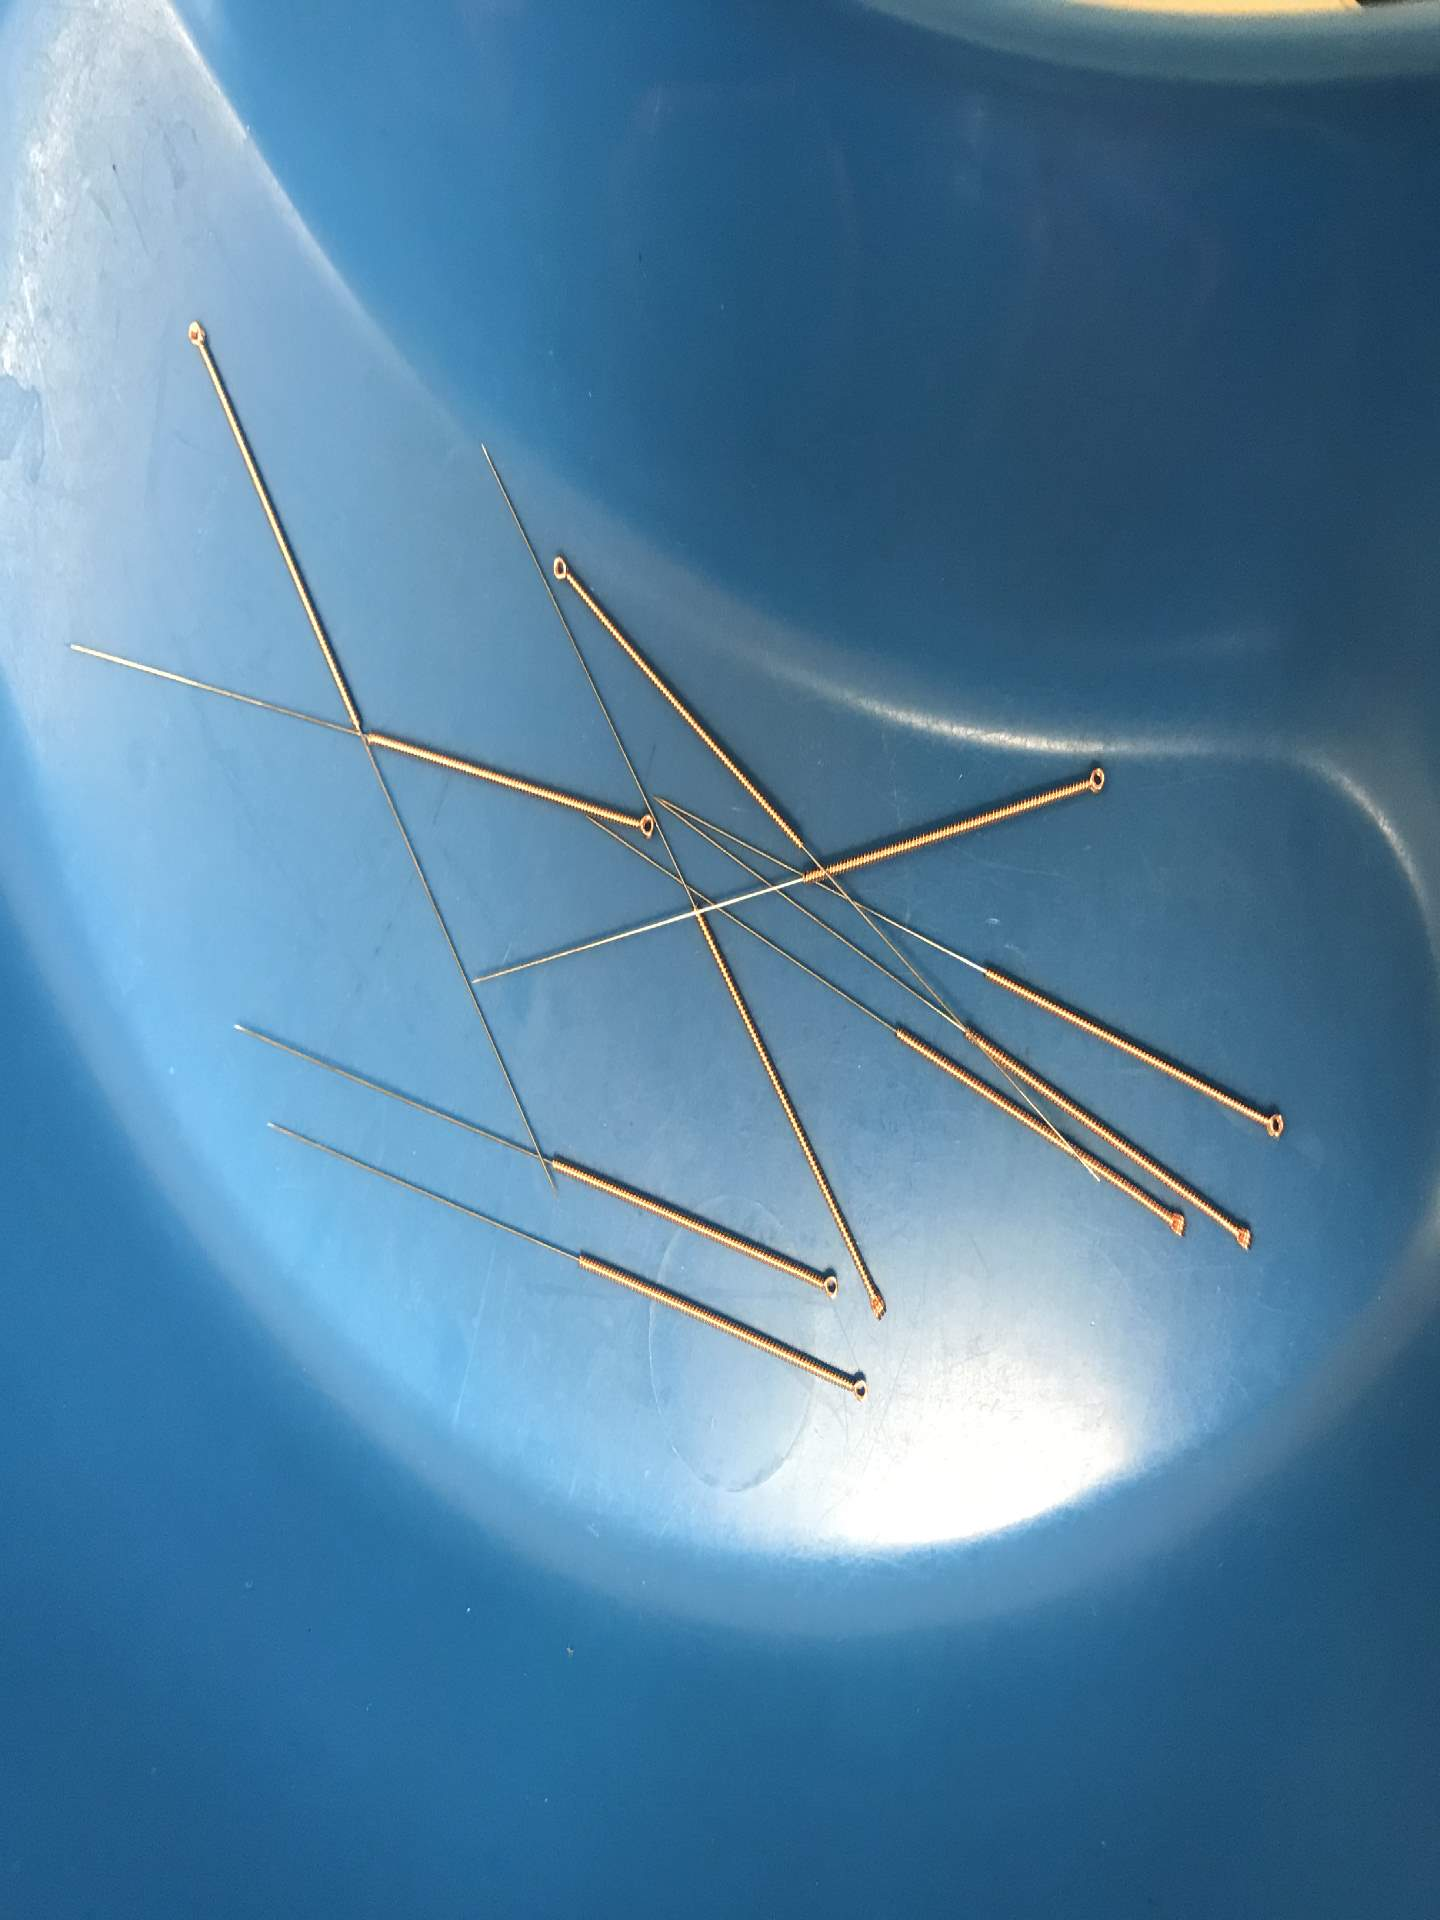needle: (833, 1364, 880, 1411), (803, 1262, 850, 1308), (1066, 757, 1112, 803), (177, 310, 215, 361), (1252, 1102, 1293, 1147), (1222, 1212, 1262, 1259), (546, 544, 581, 593), (1150, 1203, 1192, 1243), (859, 1284, 895, 1329), (626, 807, 666, 847)
